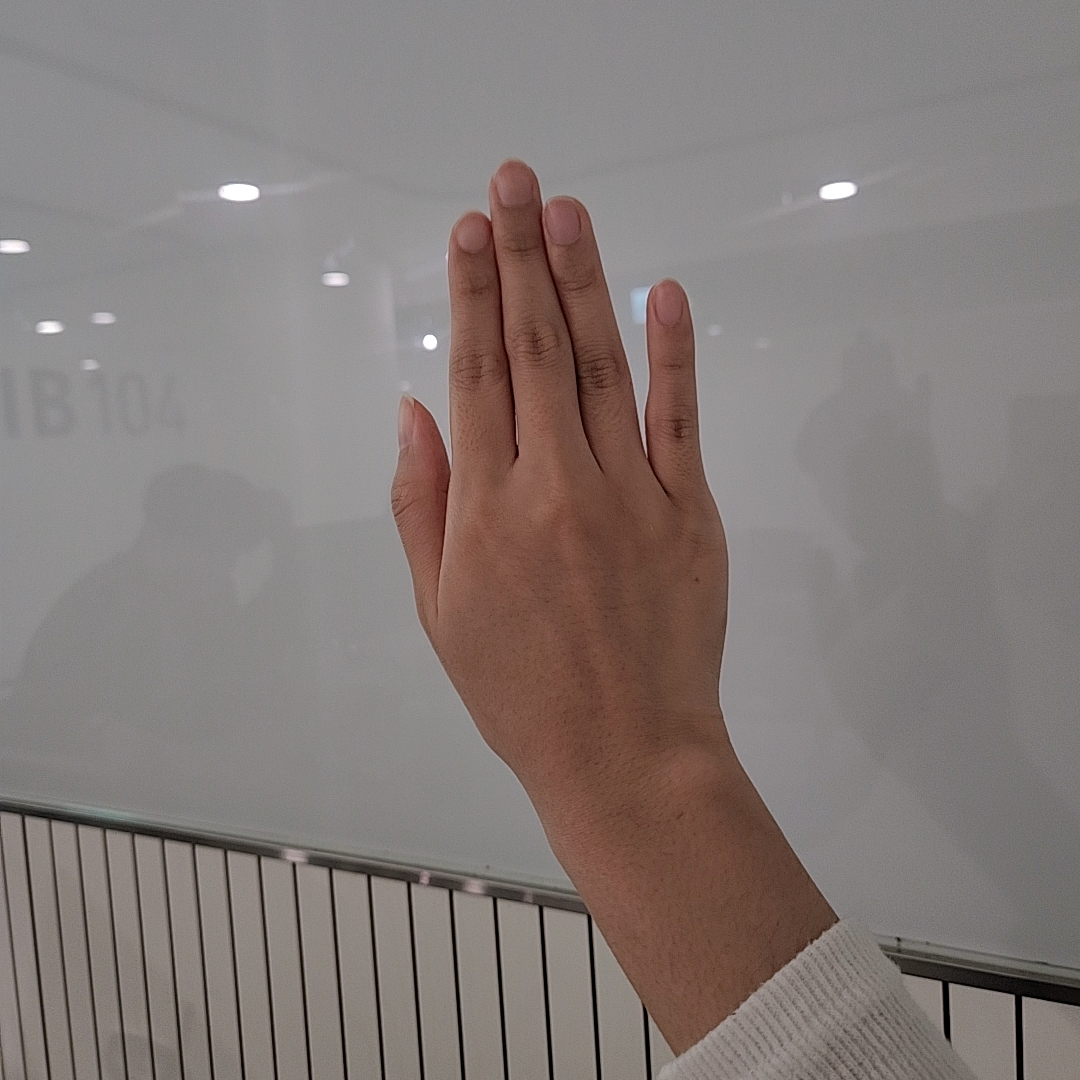me: (391, 158, 730, 763)
